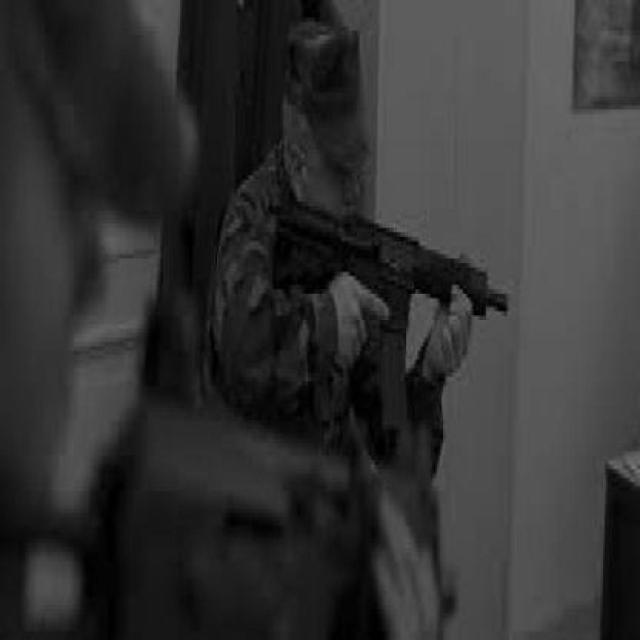weapon: (274, 200, 511, 434)
